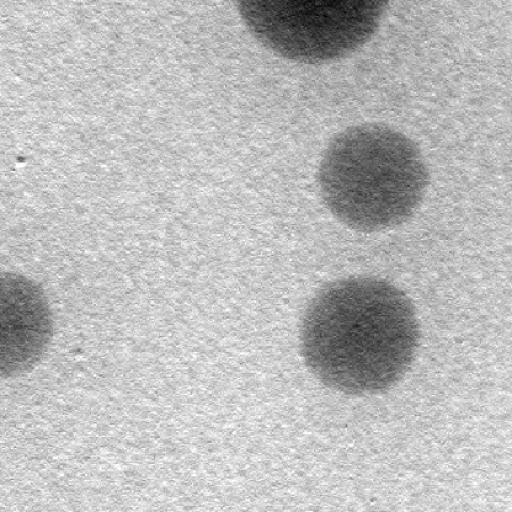Nanoparticles: (299, 276, 419, 390), (317, 122, 430, 230), (238, 0, 390, 62), (3, 270, 52, 376)
